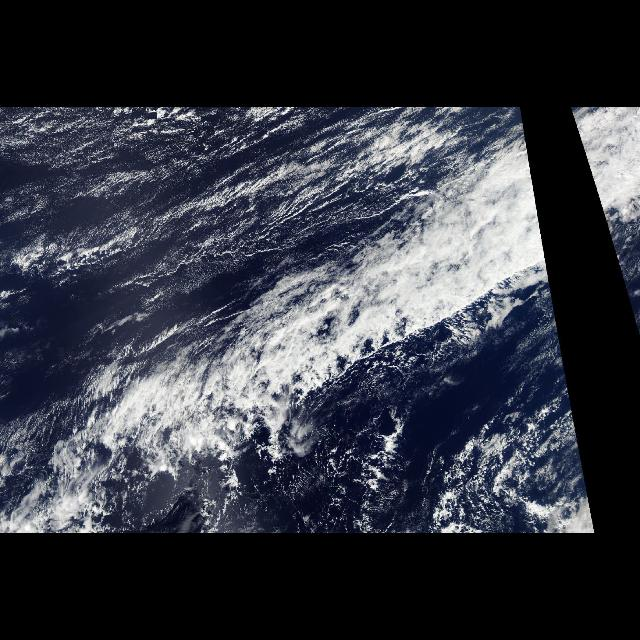Fish: (76, 290, 448, 474)
Sugar: (1, 110, 417, 308)
